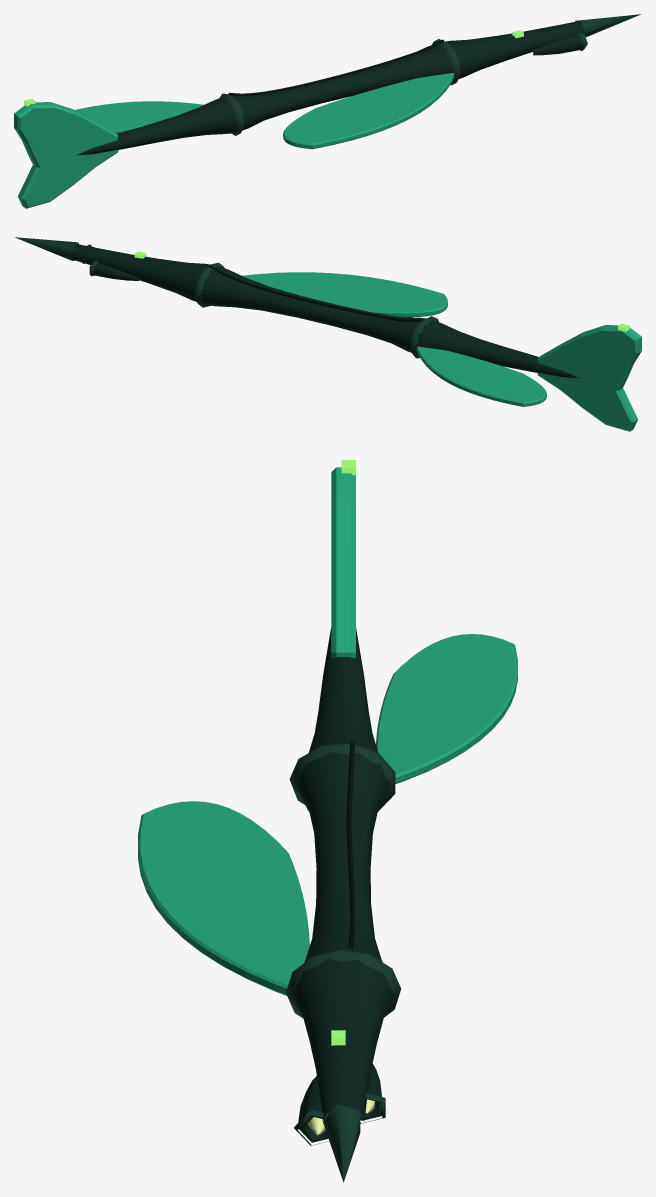
File: reed-pelagia.glb
3 renders of one model, top to bottom at view 1: azimuth 30°, elevation 25°; view 2: azimuth 150°, elevation 25°; view 3: azimuth 270°, elevation 25°, orthographic. The views are drawn at different scales.
Parts seen in each view (by area): view 1: stem, drive_fluke, leaf_blade_s, leaf_blade_p, stem_vein, seed_node_s, leaf_tip, stem_ring_1, stem_ring_0; view 2: stem, drive_fluke, leaf_blade_s, leaf_blade_p, stem_vein, leaf_tip, seed_node_p, stem_ring_0, stem_ring_1; view 3: stem, leaf_blade_s, leaf_blade_p, drive_fluke, leaf_tip, stem_ring_0, stem_ring_1, stem_vein.
Boxes of the visible parts, x1,y1,x2,y2 form: stem: [76, 21, 584, 155]; drive_fluke: [14, 102, 118, 208]; leaf_blade_s: [283, 73, 454, 149]; leaf_blade_p: [74, 101, 203, 133]; stem_vein: [228, 39, 443, 95]; seed_node_s: [532, 34, 582, 55]; leaf_tip: [575, 14, 640, 37]; stem_ring_1: [220, 93, 244, 135]; stem_ring_0: [432, 39, 460, 85]; stem: [71, 244, 579, 378]; drive_fluke: [537, 325, 641, 431]; leaf_blade_s: [242, 272, 447, 317]; leaf_blade_p: [416, 346, 546, 406]; stem_vein: [208, 265, 422, 321]; leaf_tip: [15, 237, 78, 260]; seed_node_p: [94, 263, 139, 280]; stem_ring_0: [194, 262, 224, 307]; stem_ring_1: [410, 316, 438, 358]; stem: [293, 627, 393, 1121]; leaf_blade_s: [138, 801, 309, 995]; leaf_blade_p: [376, 634, 517, 783]; drive_fluke: [331, 467, 355, 657]; leaf_tip: [323, 1104, 360, 1182]; stem_ring_0: [286, 950, 401, 1018]; stem_ring_1: [289, 744, 395, 810]; stem_vein: [346, 741, 354, 950].
Bounding box in the file's own units: 70 × 11.11 × 18.4.
